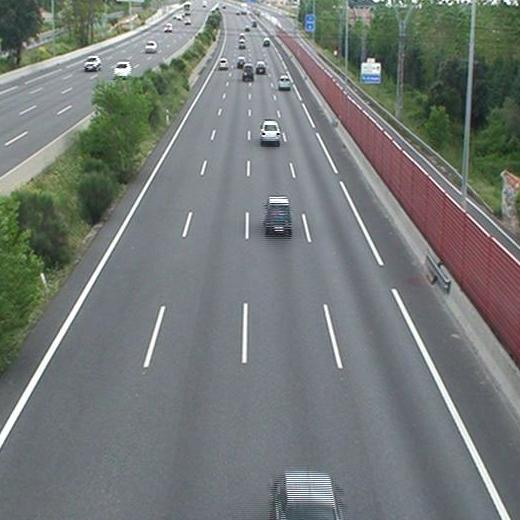car: (266, 196, 292, 231), (261, 121, 281, 142), (278, 76, 290, 88), (243, 65, 253, 79), (217, 58, 227, 69), (256, 61, 266, 72)
